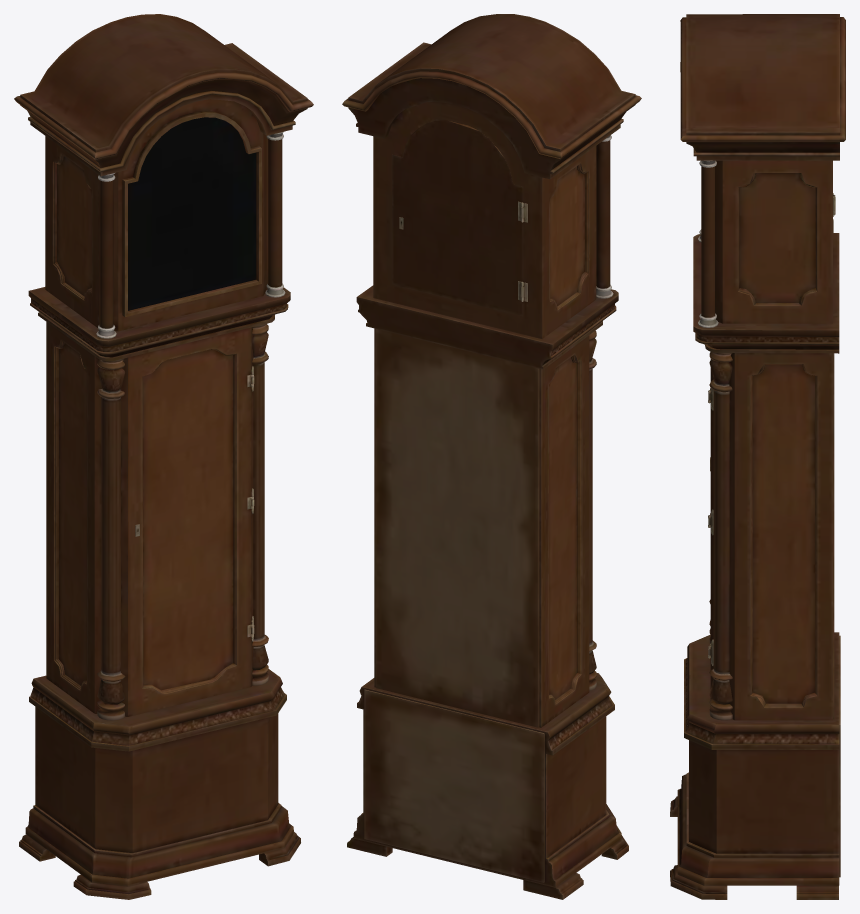
The model's file is vintage_grandfather_clock_01.glb.
The picture shows the model from 3 angles, left to right: view 1: azimuth 30°, elevation 25°; view 2: azimuth 150°, elevation 25°; view 3: azimuth 270°, elevation 25°; orthographic projection. The views are drawn at different scales.
Parts seen in each view (by area): view 1: vintage_grandfather_clock_01_body; view 2: vintage_grandfather_clock_01_body; view 3: vintage_grandfather_clock_01_body.
Part boxes in pixels (x1,y1,x2,y2): vintage_grandfather_clock_01_body: [14, 14, 313, 899]; vintage_grandfather_clock_01_body: [342, 14, 641, 899]; vintage_grandfather_clock_01_body: [670, 14, 845, 899].
Size of the model in its own units: 0.6255 by 2.19 by 0.4265.
Materials: 2 (2 with a texture image).
